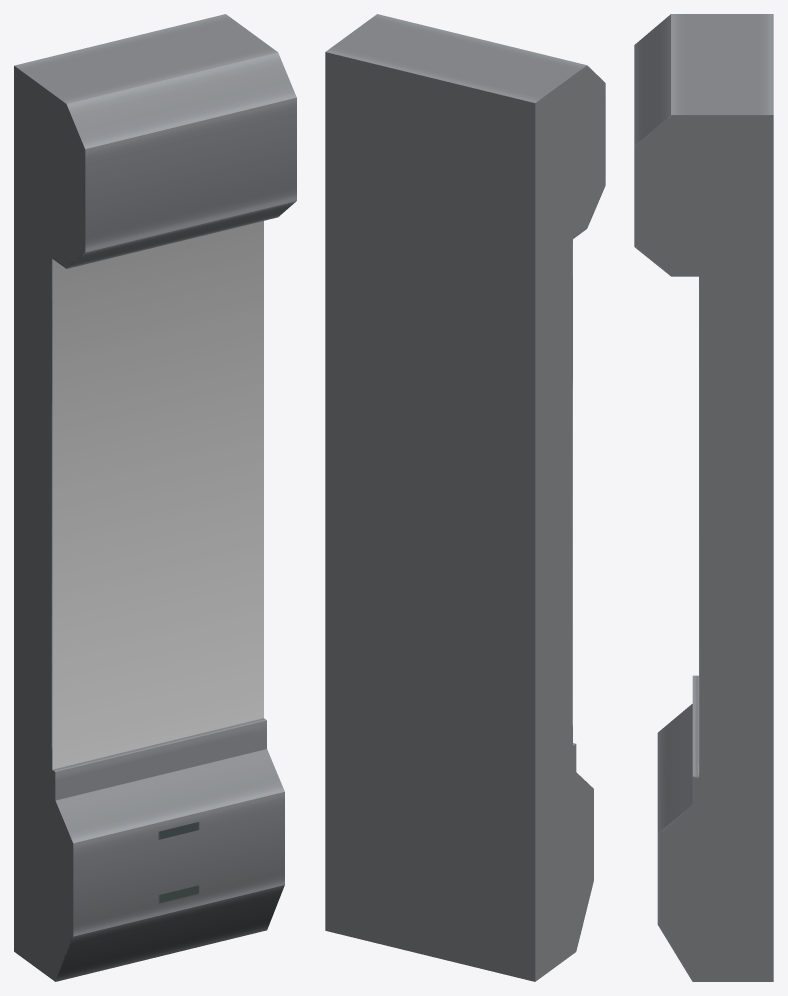
The model's file is SM_Stage1_Wall_02.fbx.
3 views of the same model, side by side, from view 1: azimuth 30°, elevation 25°; view 2: azimuth 150°, elevation 25°; view 3: azimuth 270°, elevation 25° (orthographic). The views are drawn at different scales.
Parts seen in each view (by area): view 1: SM_Stage1_Wall_02; view 2: SM_Stage1_Wall_02; view 3: SM_Stage1_Wall_02.
Part boxes in pixels (bbox=[...]): SM_Stage1_Wall_02: bbox=[14, 14, 296, 981]; SM_Stage1_Wall_02: bbox=[325, 14, 605, 981]; SM_Stage1_Wall_02: bbox=[634, 14, 773, 981].
Bounding box in the file's own units: 70 × 280 × 40.69.
Materials: 1 (1 with a texture image).
